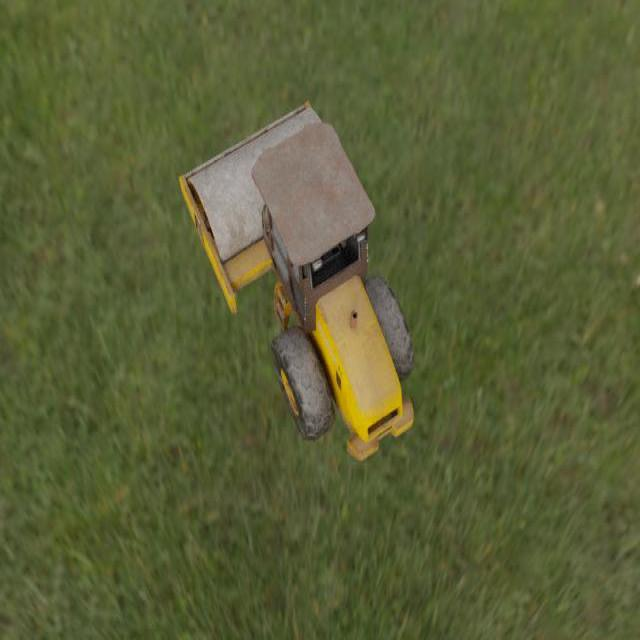Roller: (178, 100, 414, 461)
